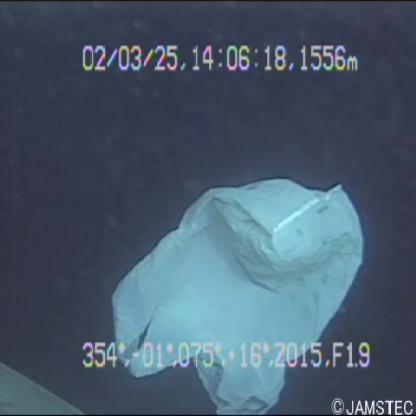Rov: (0, 350, 88, 414)
Rác: (102, 141, 370, 415)
